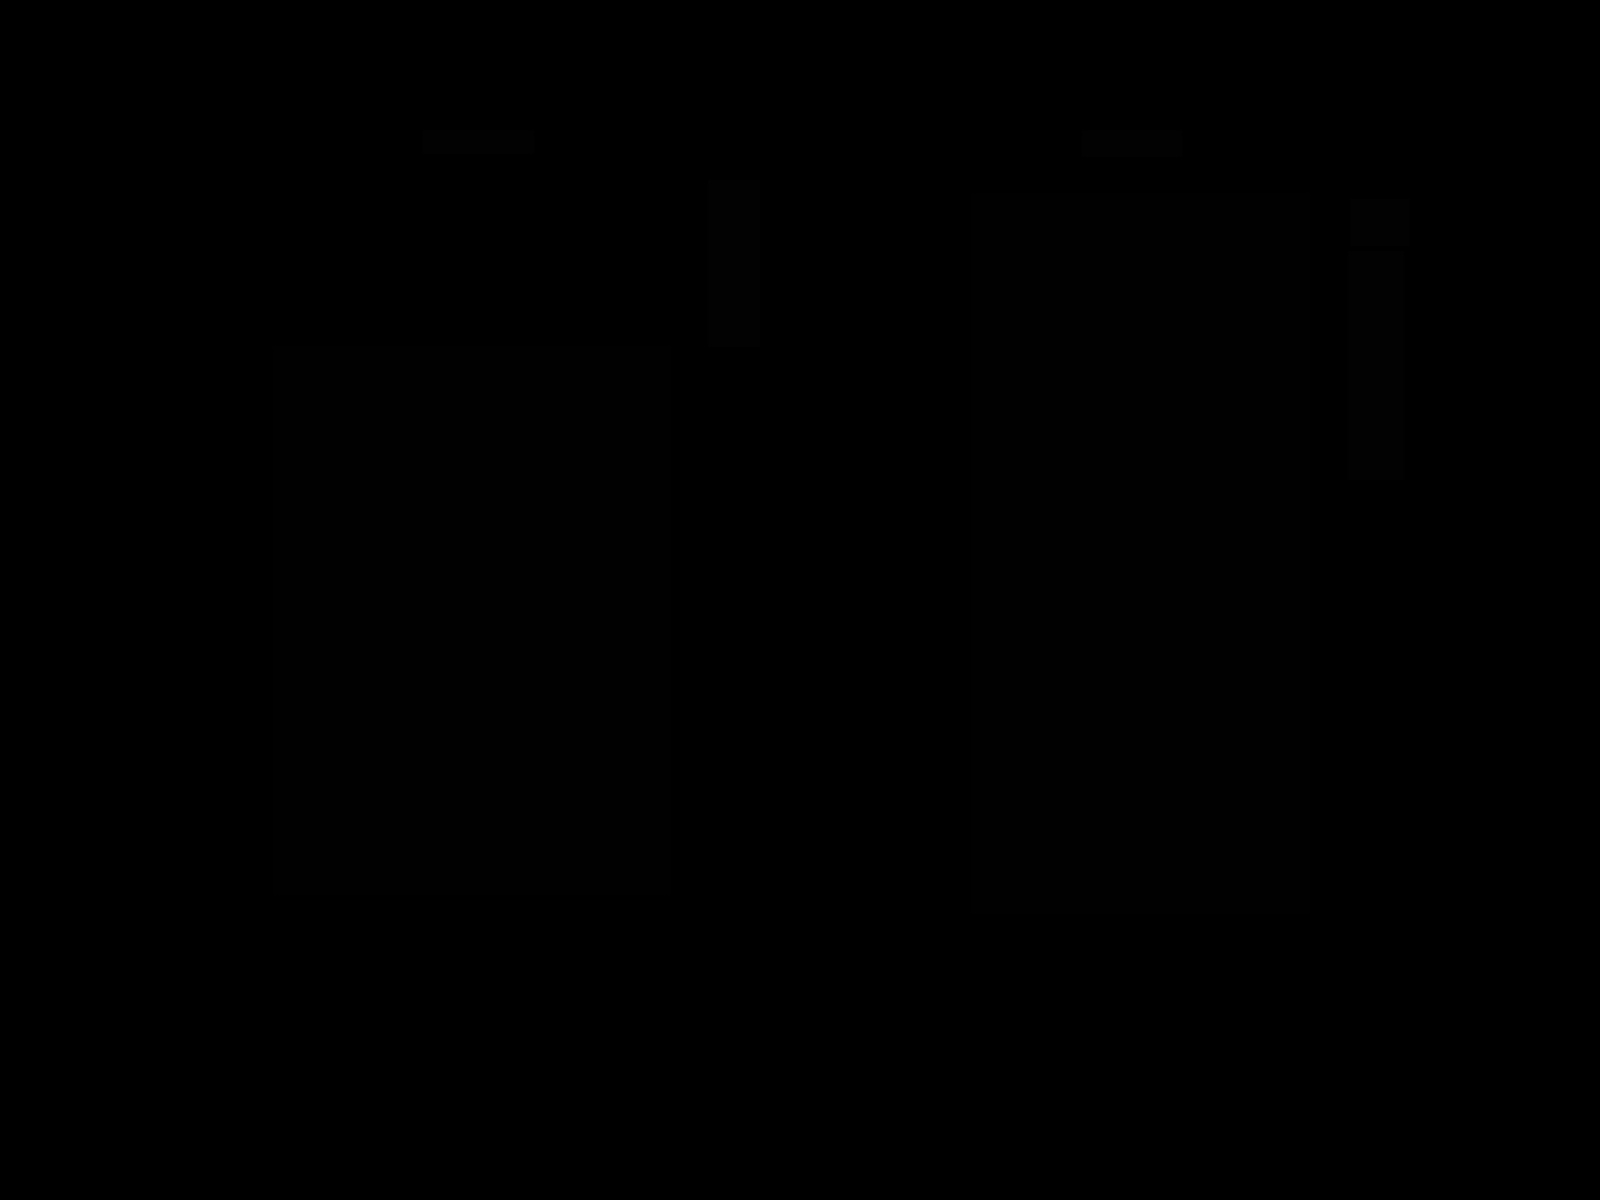1_overall: (88, 55, 1529, 1000)
3_typography: (1348, 251, 1403, 480), (708, 180, 760, 347), (1082, 130, 1182, 158), (423, 130, 534, 154)
4_illustration: (971, 193, 1310, 914), (273, 345, 671, 895)
5_stamp: (1351, 199, 1410, 246)
